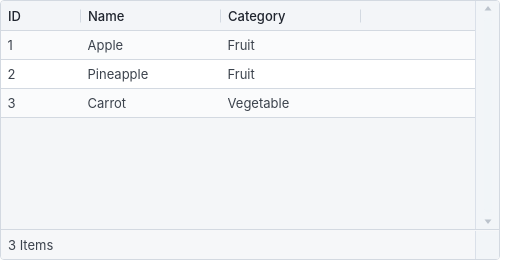
Test: BGrid search and context menu › ignores Enter during IME composition and disables navigation with no results
Press f
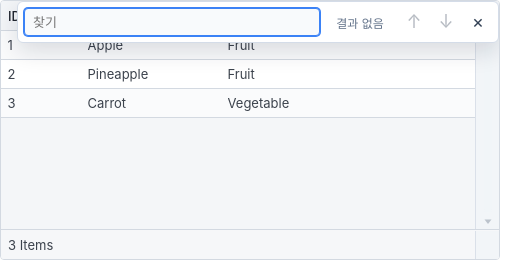
Type "apple" into the field named "그리드 데이터 찾기".
click(172, 22); type("apple")  # box x1=24 y1=8 x2=320 y2=36
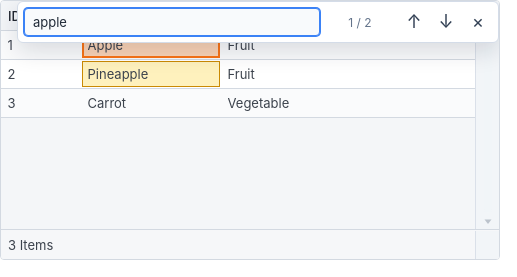
Check: the text "1 / 2" is shown, box x1=348 y1=14 x2=372 y2=30
Press Enter in the field named "그리드 데이터 찾기", box x1=24 y1=8 x2=320 y2=36
Replace the text in the field named "그리드 데이터 찾기" with "missing" at (172, 22), box x1=24 y1=8 x2=320 y2=36
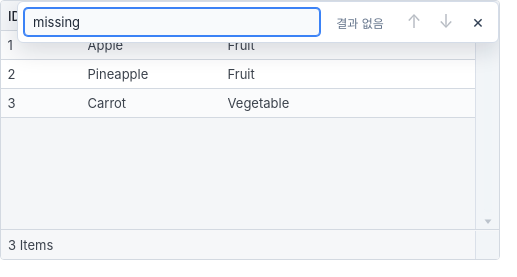
Check: the text "결과 없음" is shown, box x1=336 y1=16 x2=384 y2=30
Check: the button named "이전 검색 결과" is disabled, box x1=400 y1=8 x2=428 y2=36
Check: the button named "다음 검색 결과" is disabled, box x1=432 y1=8 x2=460 y2=36
